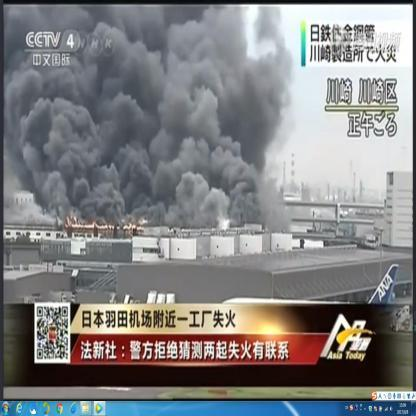smoke: (112, 66, 286, 222), (3, 75, 111, 220), (110, 4, 284, 65), (4, 4, 108, 31)
